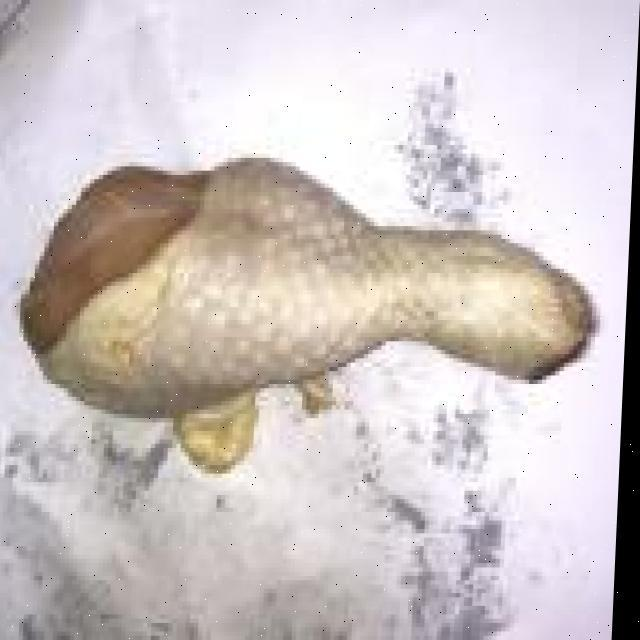leg: (3, 160, 610, 422)
